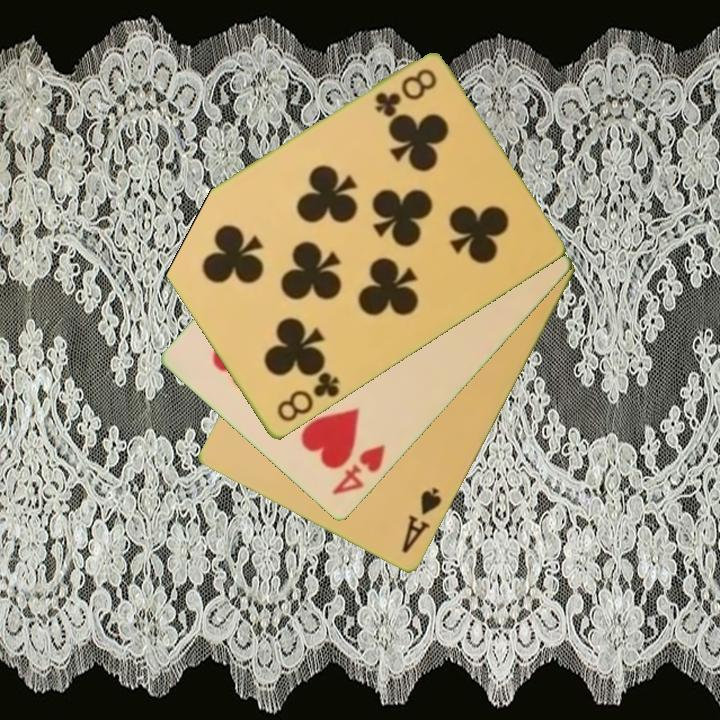4h: (328, 442, 389, 499)
8c: (273, 369, 343, 426), (371, 65, 440, 121)
As: (398, 484, 445, 557)
